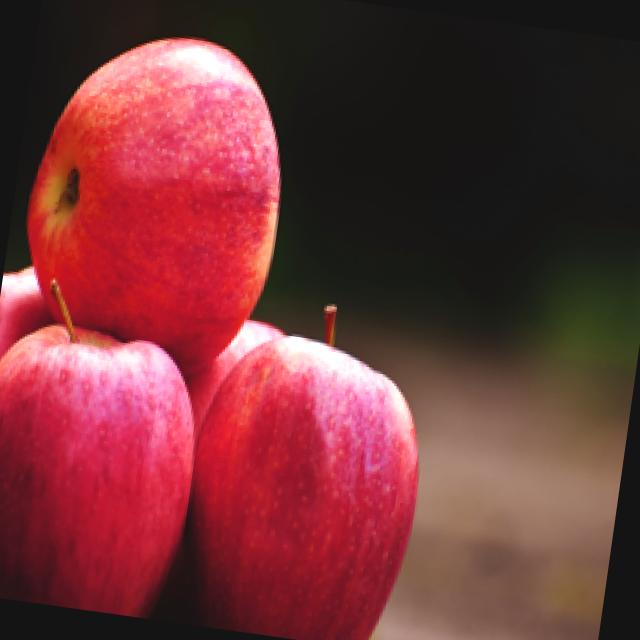Fresh_Apple: (128, 285, 451, 640), (11, 19, 295, 372)
